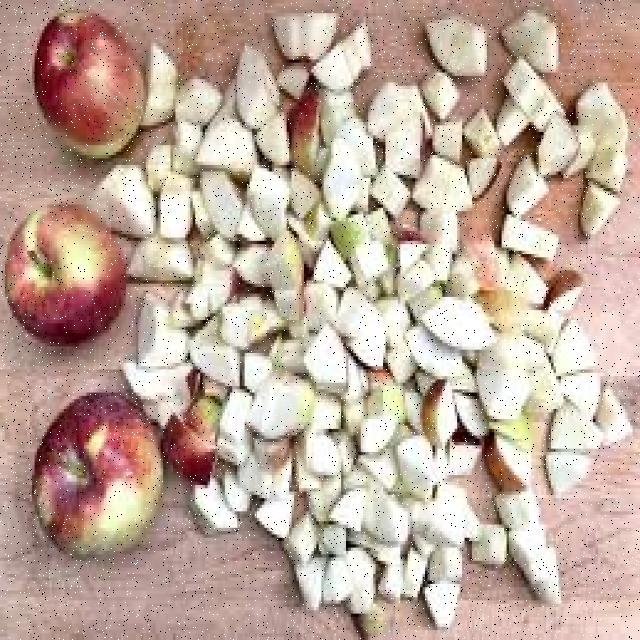Apple: (33, 392, 162, 560), (29, 8, 149, 154), (5, 202, 129, 342), (428, 15, 493, 80), (425, 297, 495, 345), (496, 214, 566, 258), (505, 10, 560, 65), (574, 86, 632, 136), (552, 321, 606, 373), (499, 154, 547, 212), (481, 365, 534, 415), (422, 375, 459, 446), (486, 436, 537, 487), (596, 381, 636, 444), (486, 489, 546, 530), (540, 411, 604, 449), (536, 114, 571, 181), (510, 72, 557, 120), (592, 138, 632, 186), (545, 450, 592, 490), (563, 369, 601, 418), (576, 187, 612, 234), (550, 268, 584, 316), (531, 550, 559, 604), (468, 530, 505, 569), (498, 102, 526, 144), (568, 130, 590, 183), (511, 532, 542, 569)
